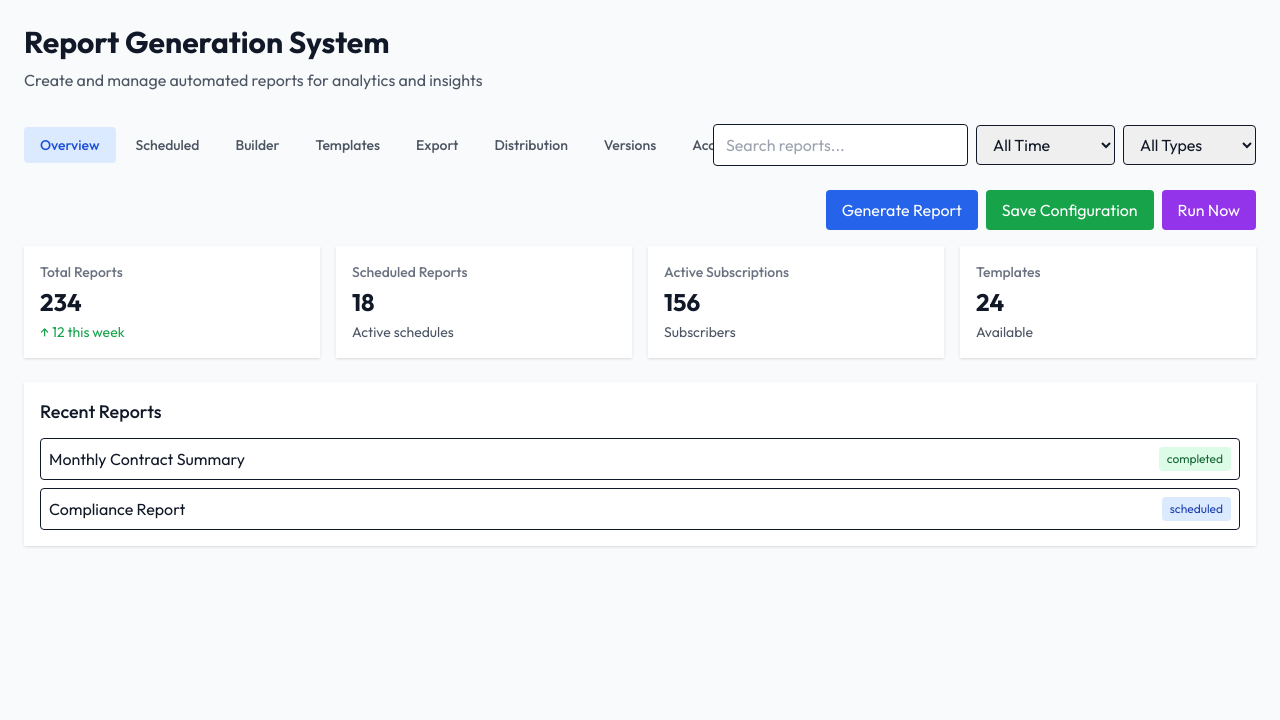
Test: ReportGenerationSystem › Scheduled Report Automation › should display scheduled reports
Click the tab "Scheduled" at (167, 145), box x1=120 y1=127 x2=215 y2=163
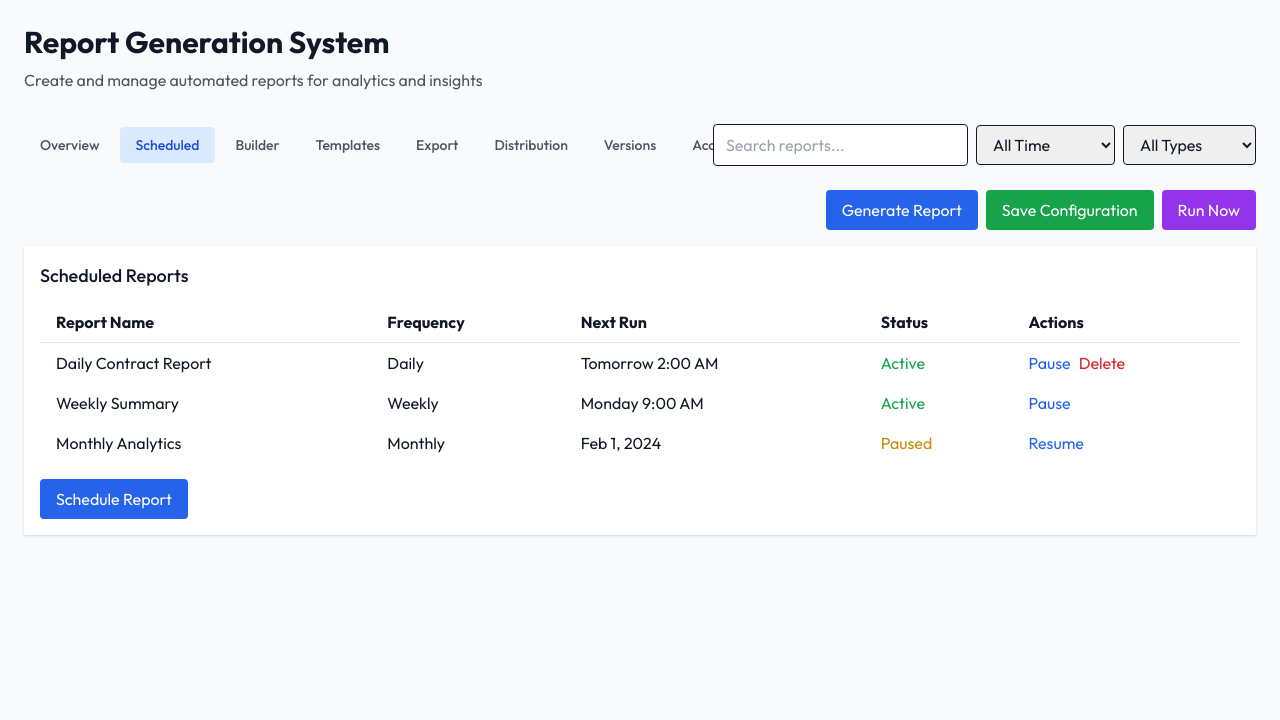
Expected: the heading "Scheduled Reports" is shown, x1=40 y1=264 x2=188 y2=287
Expected: the element with test id "scheduled-reports-table" is shown, x1=40 y1=302 x2=1240 y2=463
